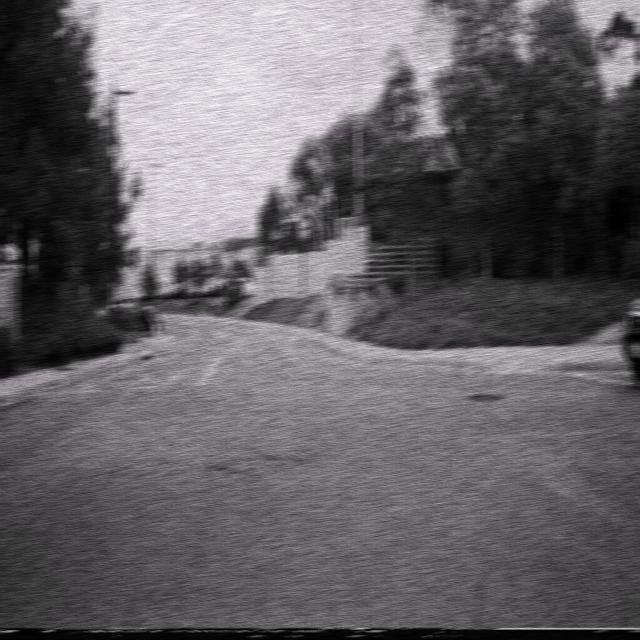speedLimit25: (355, 224, 369, 255)
